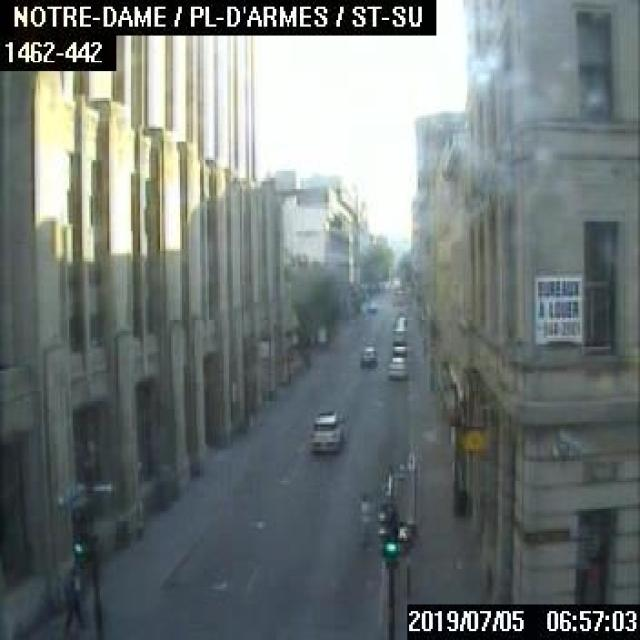pedestrian: (58, 564, 82, 638), (356, 492, 370, 546)
vehicle: (306, 407, 346, 453), (388, 352, 406, 376), (360, 338, 376, 364), (390, 335, 406, 355), (390, 324, 406, 337), (364, 302, 377, 314)
